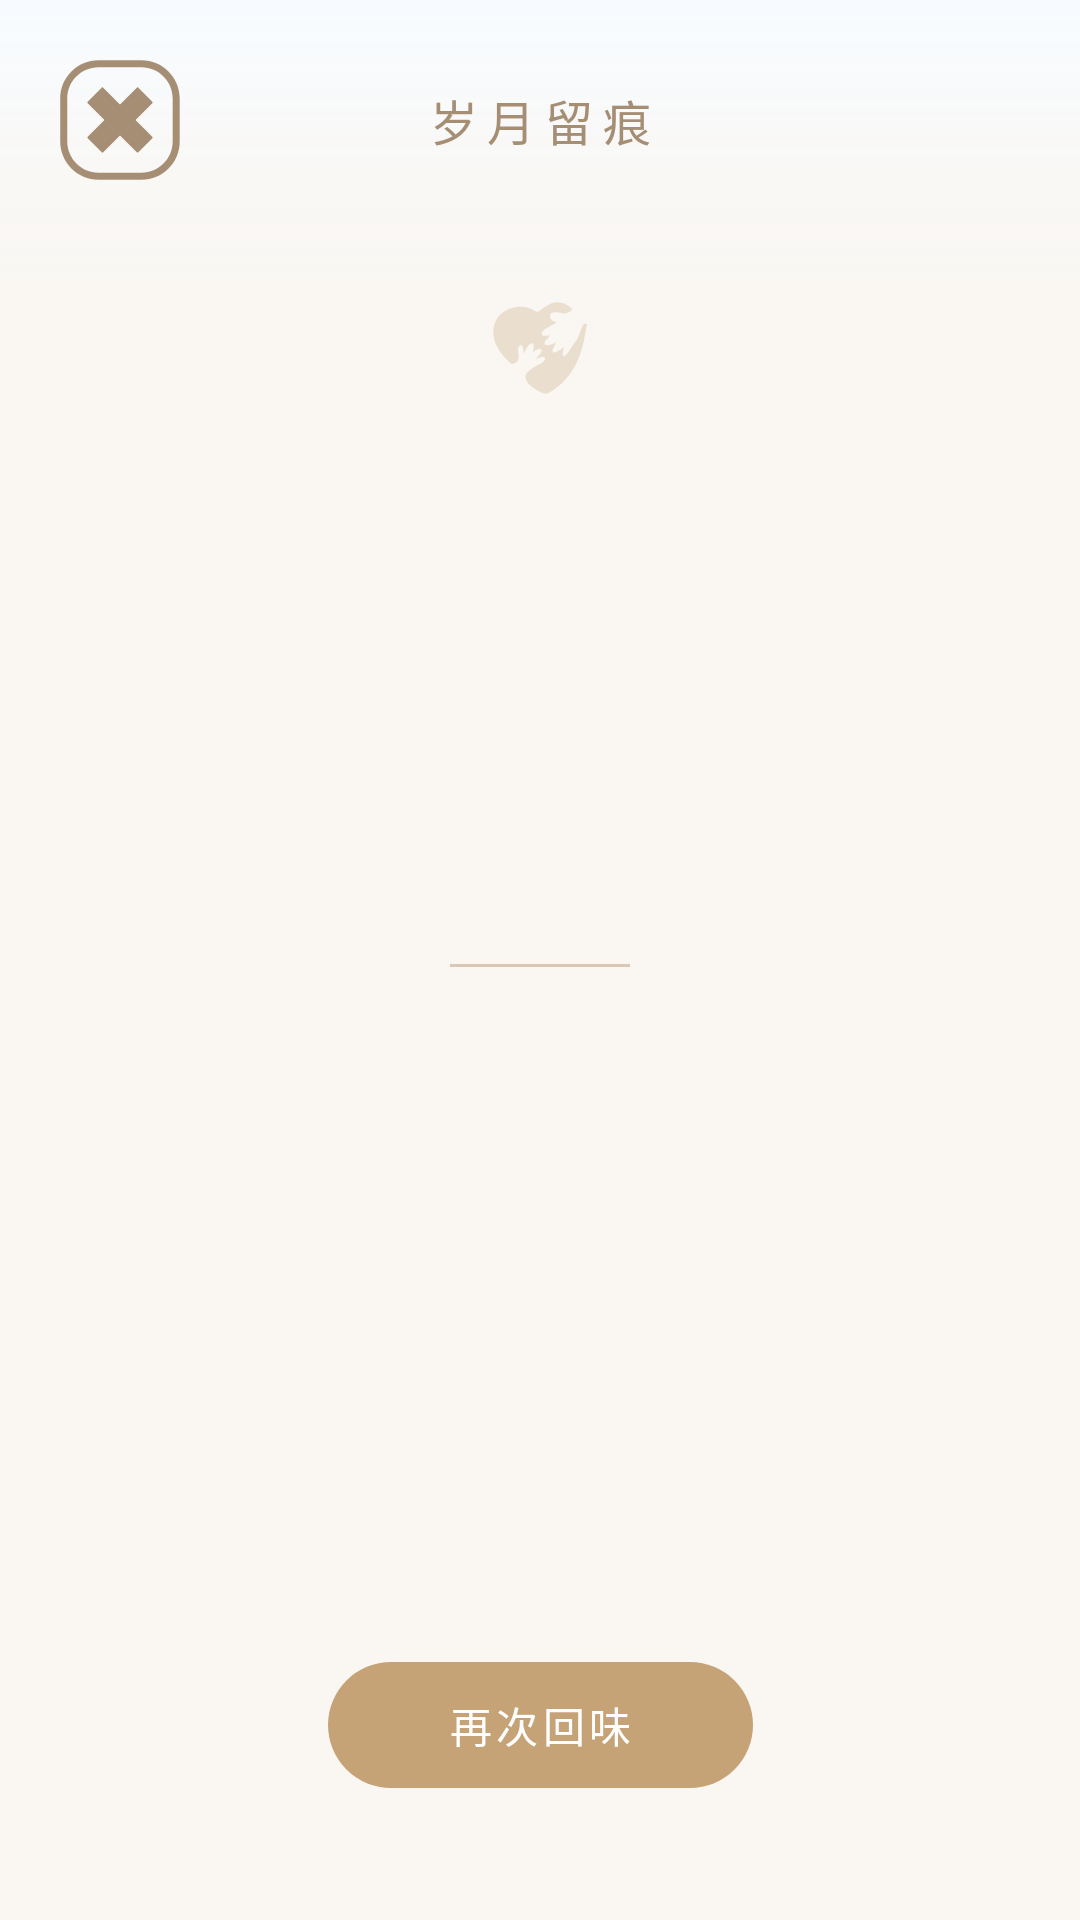

Icon click points for this 1080px x 1920px phone screenshot, format (x=x, y=y):
close: (x=120, y=120)
heart: (x=540, y=348)
